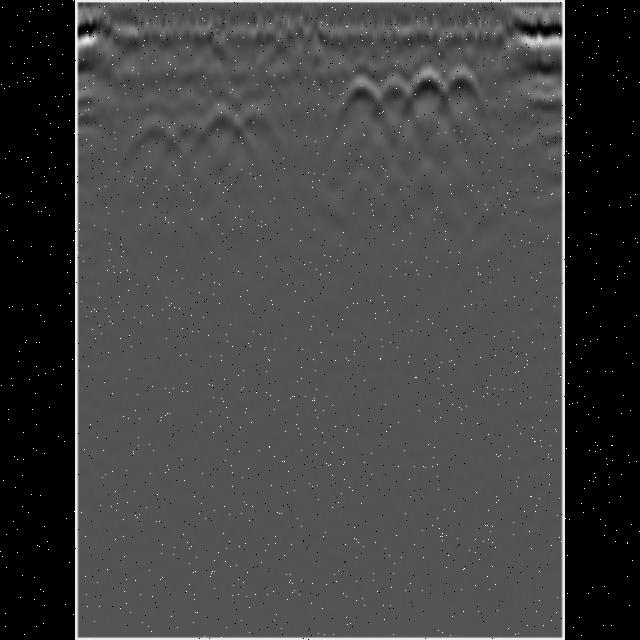hyperbola: (430, 64, 486, 108), (134, 111, 178, 161), (234, 98, 278, 144), (376, 68, 416, 115), (336, 72, 382, 111), (170, 113, 210, 157), (203, 98, 239, 146), (408, 64, 448, 104)
